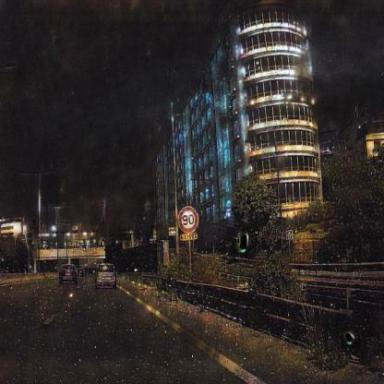Speed_limit_90: (179, 208, 200, 234)
